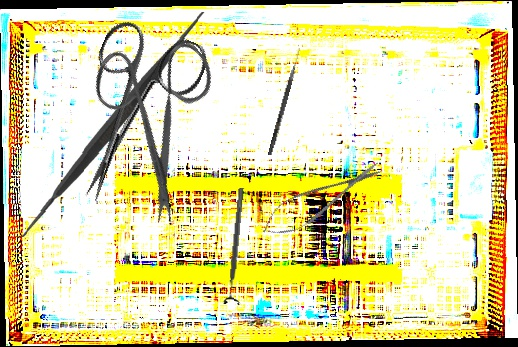Fixation Ring: (222, 186, 251, 306)
Hook Surgical: (267, 47, 302, 156)
Iris Scissors: (52, 8, 273, 230), (45, 9, 213, 221)
Micro Scissor: (255, 151, 389, 247)
Spatula Surgical: (3, 12, 222, 237)
